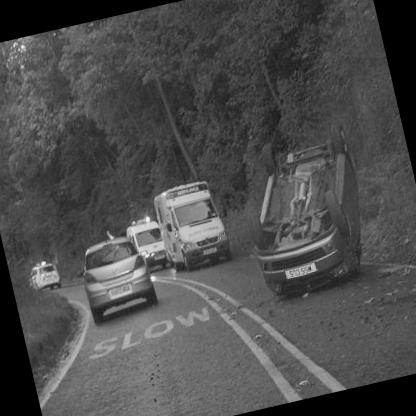ambulance: (148, 175, 239, 273), (126, 215, 170, 272), (24, 253, 66, 299)
car: (225, 113, 400, 310), (55, 229, 170, 334)
